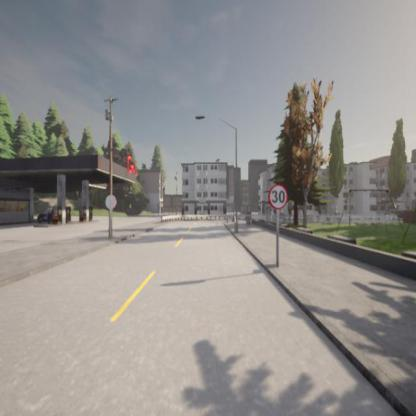traffic_sign_30: (269, 184, 289, 209)
